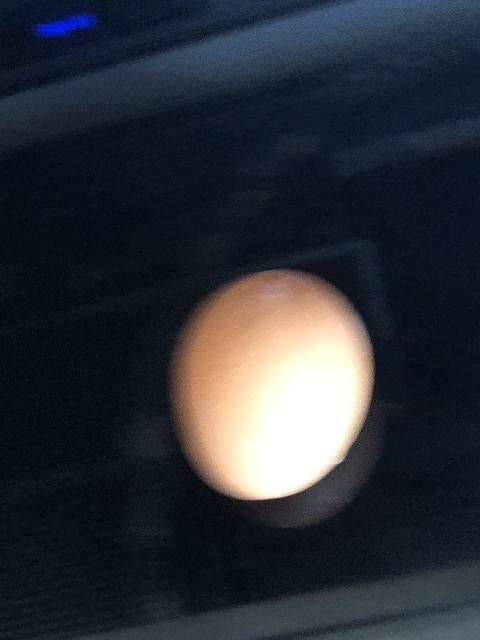Sano: (167, 266, 376, 502)
